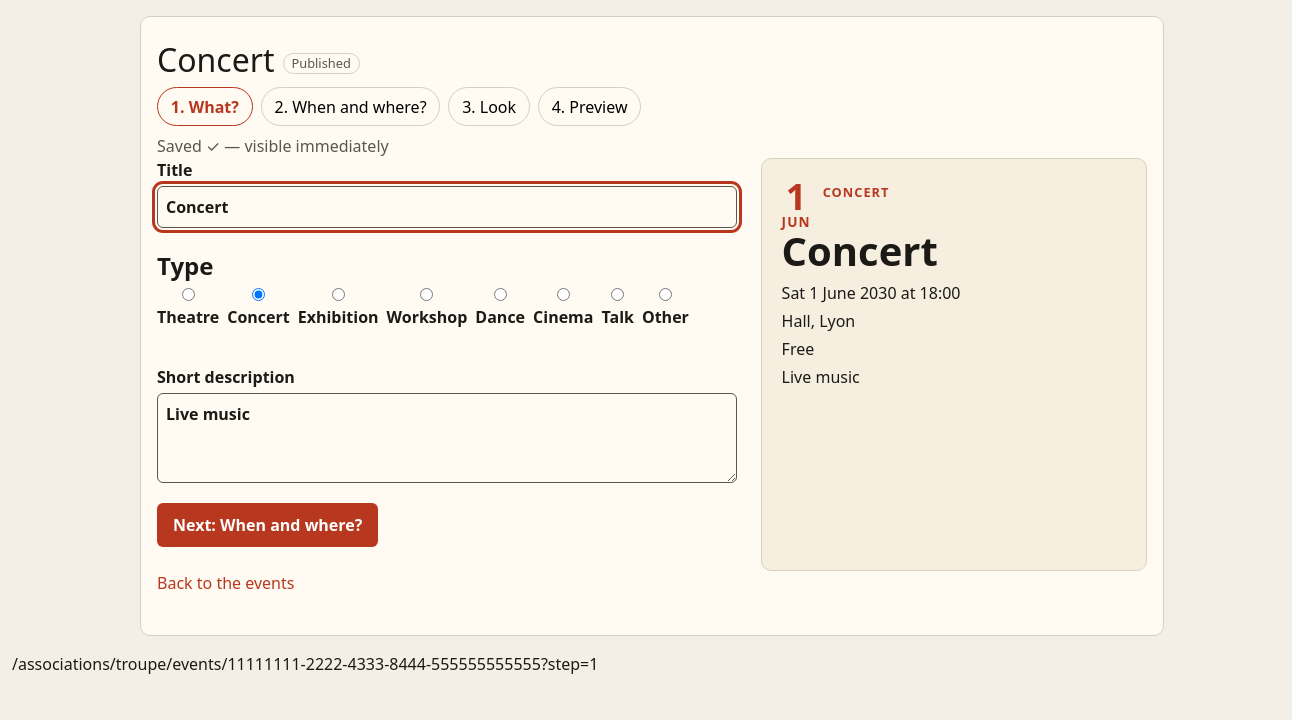
Test: create and save (UC15, UC16) › a published event says the change is visible immediately; merged changes of others are shown
The image size is (1292, 720).
Check: the navigation bar named "Steps" is shown, box top-left (157, 87), bottom-right (641, 126)
Replace the text in the field labelled "Title" with "Mine" at (447,207), box top-left (157, 186), bottom-right (737, 228)
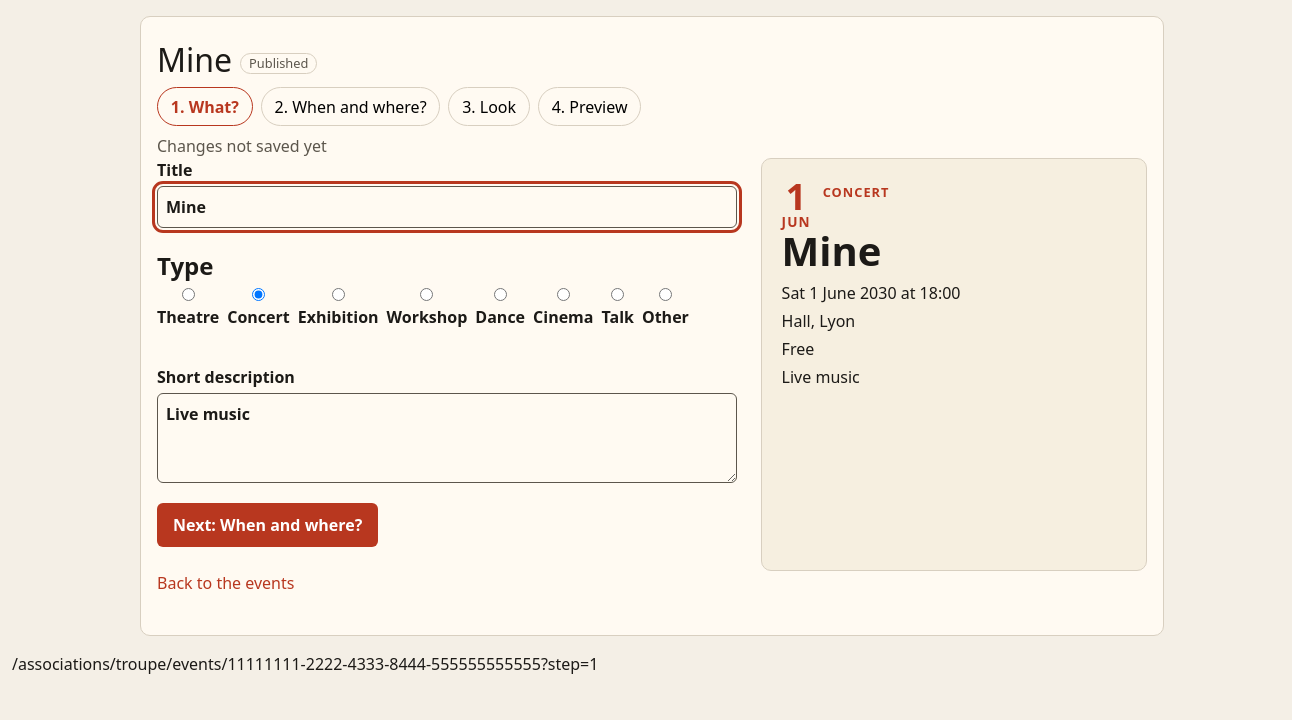
Leave the field labelled "Title", box top-left (157, 186), bottom-right (737, 228)
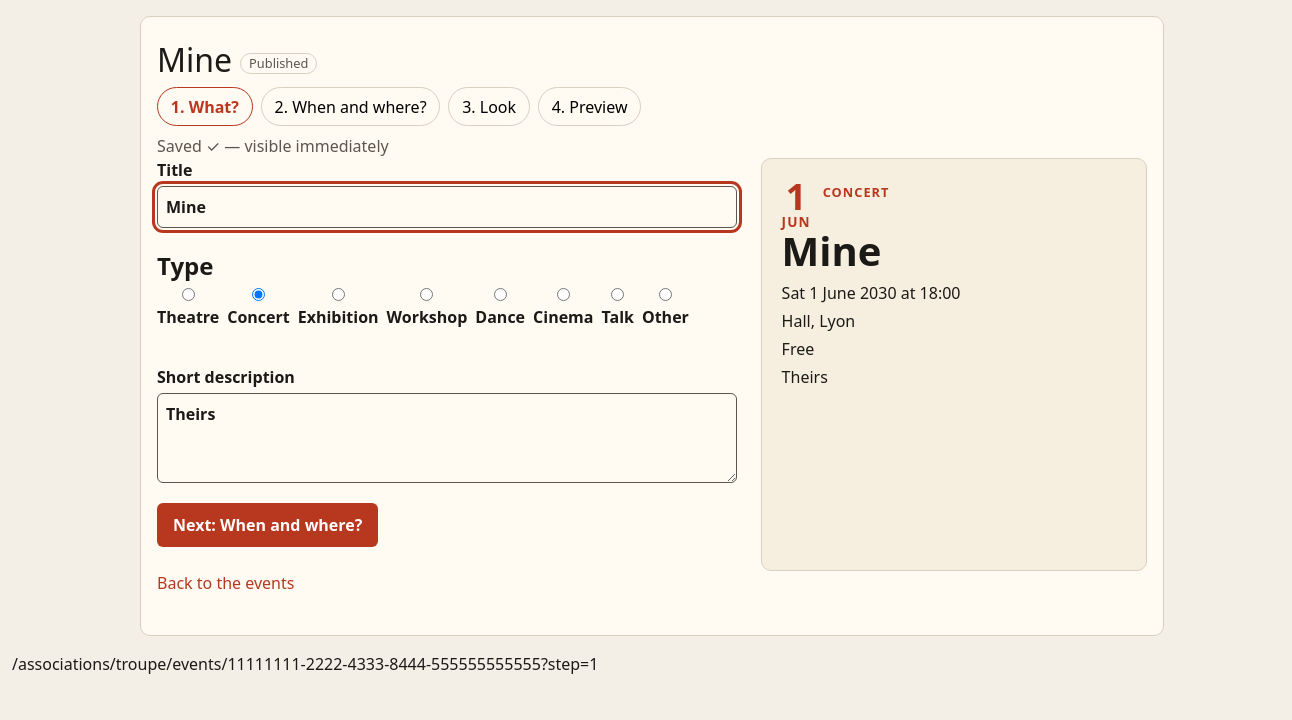
Check: the text "Saved ✓ — visible immediately" is shown, box top-left (157, 135), bottom-right (389, 157)
Check: the text box labelled "Short description" holds "Theirs", box top-left (157, 393), bottom-right (737, 483)
